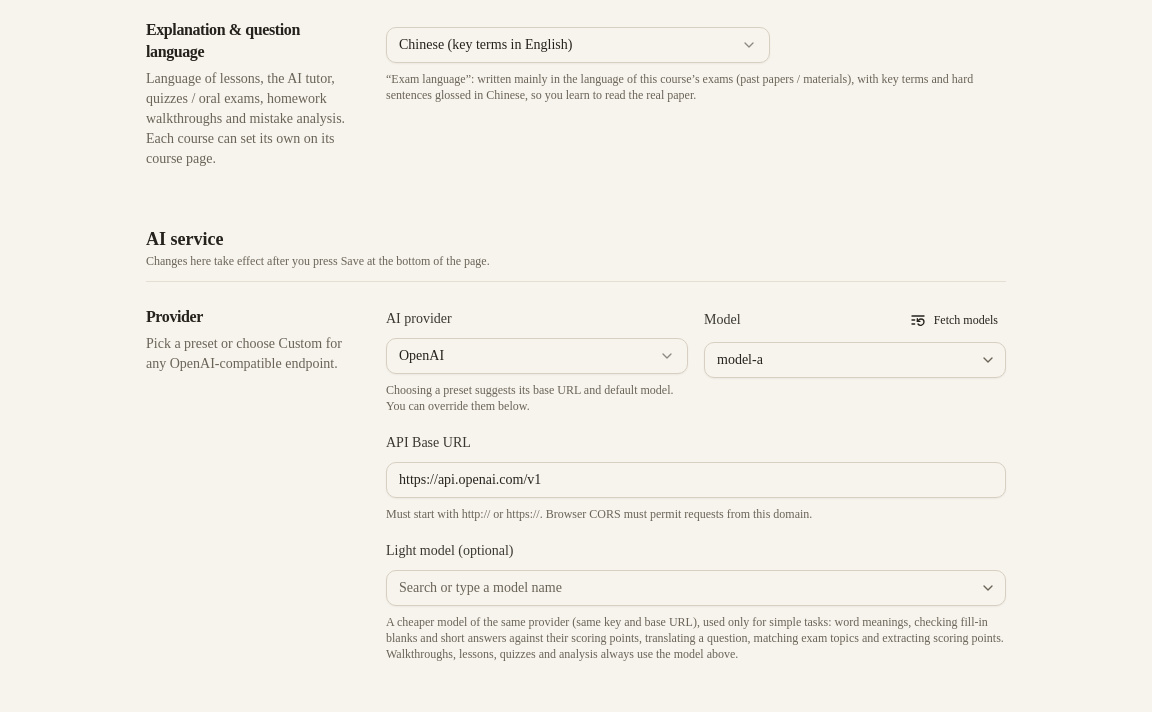
it: Settings page persistence › shows the save bar only with unsaved changes, and discard restores the stored values
(page scrolled)
Expected: the text "You have unsaved changes" is not shown
Expected: the button "Save changes" is not shown
Replace the text in the dropdown labelled "Model" with "model-z" at (855,360), box left=704, top=342, right=1006, bottom=378
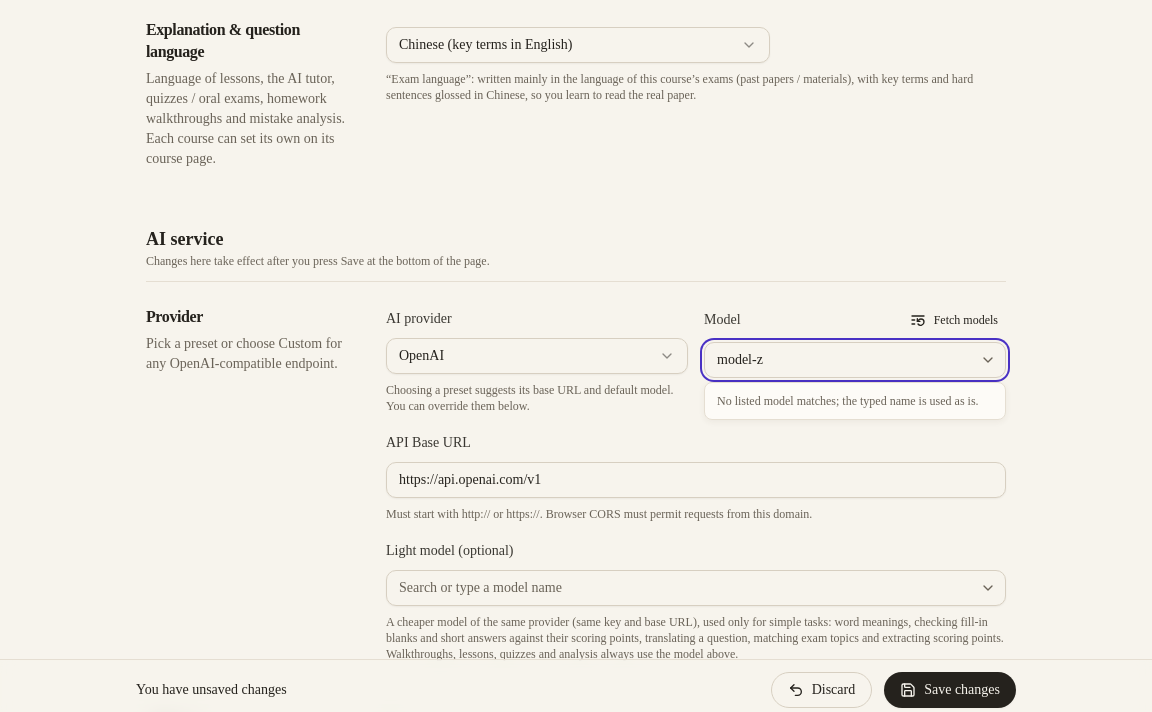
Expected: the text "You have unsaved changes" is shown, left=136, top=682, right=287, bottom=697
Click the button "Discard" at (821,690), box left=771, top=672, right=872, bottom=708
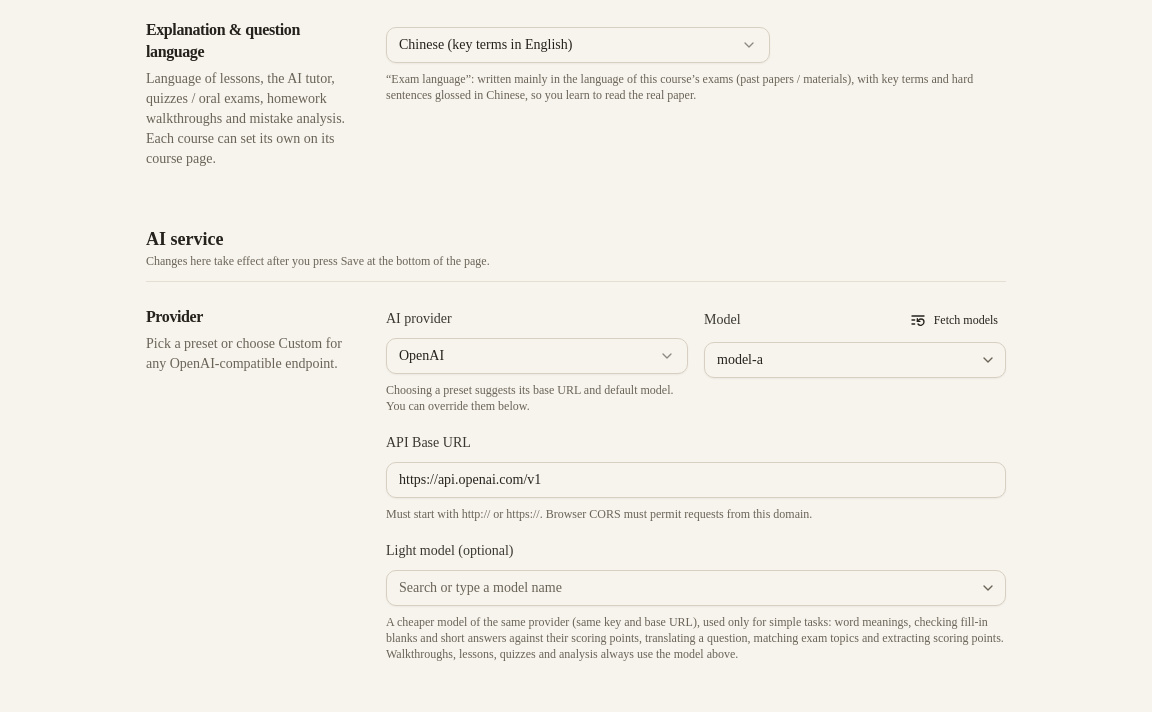
Expected: the dropdown labelled "Model" holds "model-a", left=704, top=342, right=1006, bottom=378
Expected: the text "You have unsaved changes" is gone
